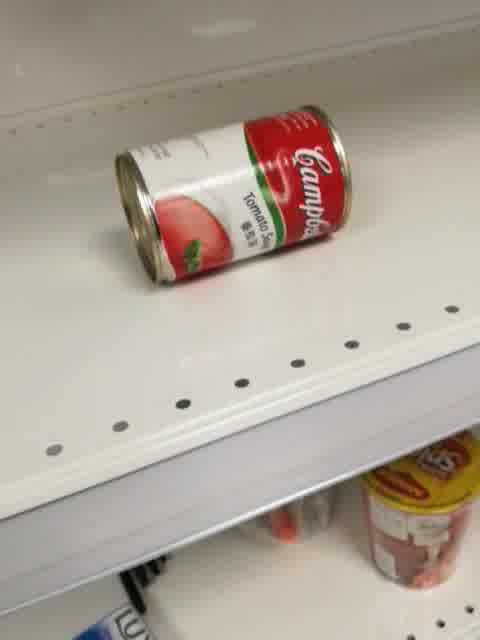tomatosoup: (112, 103, 355, 287)
